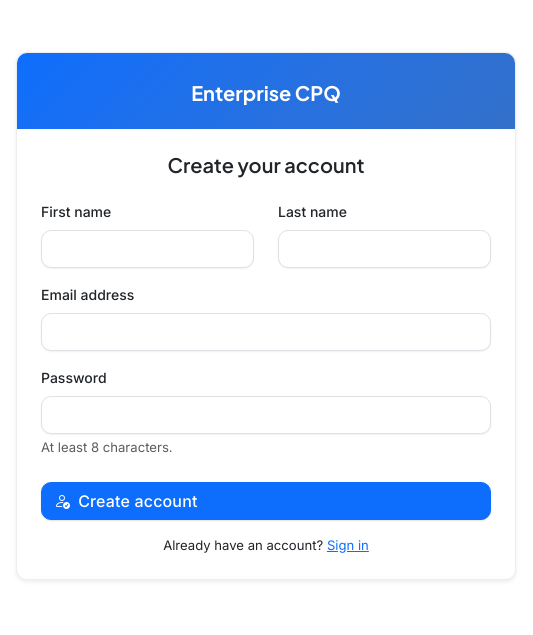
Test: Register page › shows top-level error alert when email is already registered (409)
Type "Jane" into the field labelled "First name" at (148, 249), box [41,230,254,268]
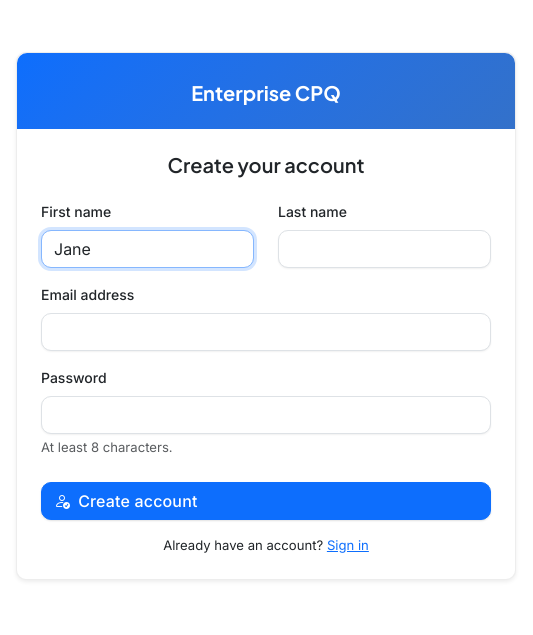
Type "Doe" into the field labelled "Last name" at (384, 249), box [278,230,491,268]
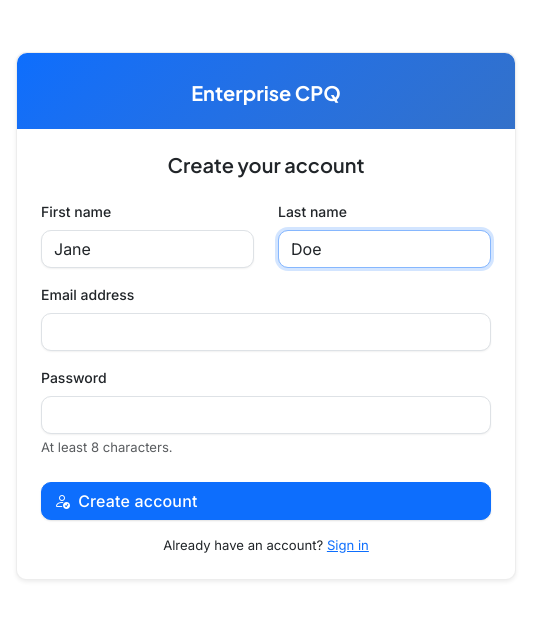
Type "taken@example.com" into the field labelled "Email address" at (266, 332), box [41,313,491,351]
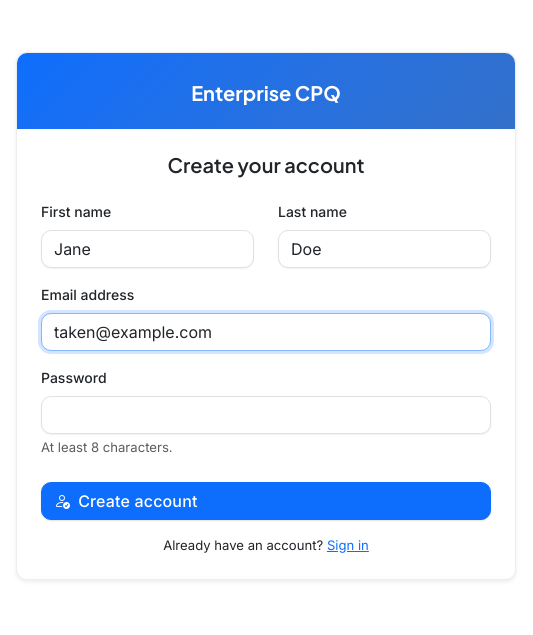
Type "password123" into the password field labelled "Password" at (266, 415), box [41,396,491,434]
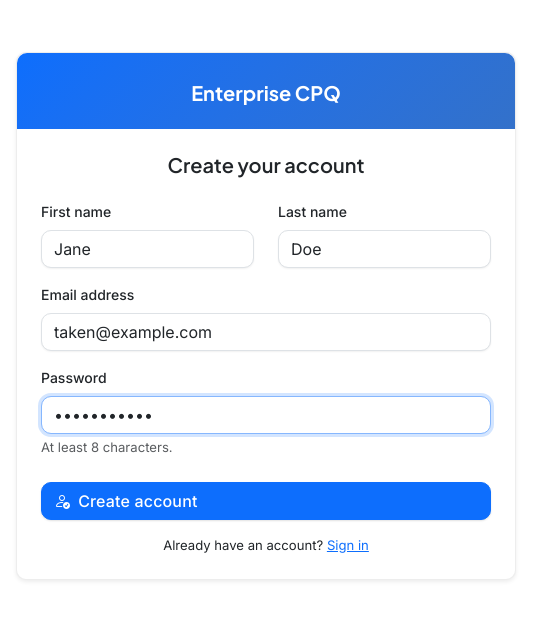
Click the button "Create account" at (138, 500), box [41,482,491,520]
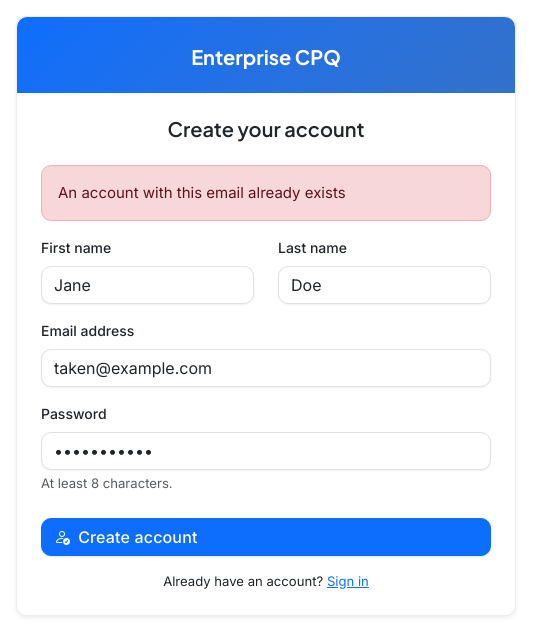
Check: the message shows "already exists", box [58,183,346,202]
